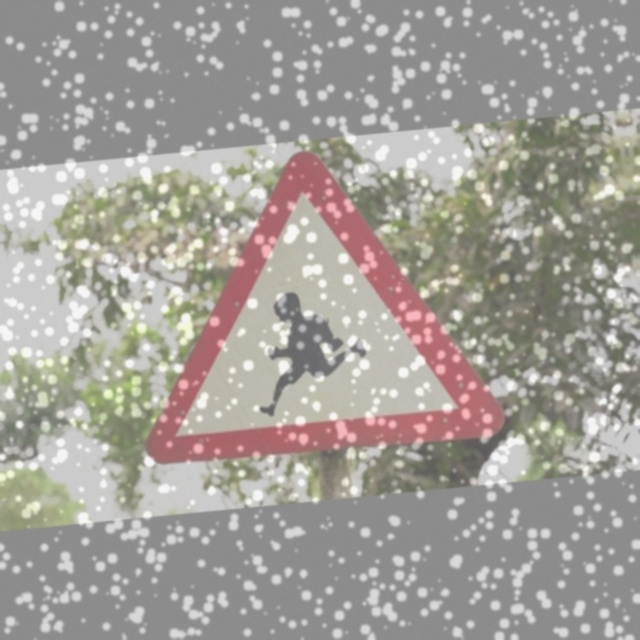School_Ahead: (133, 139, 502, 467)
